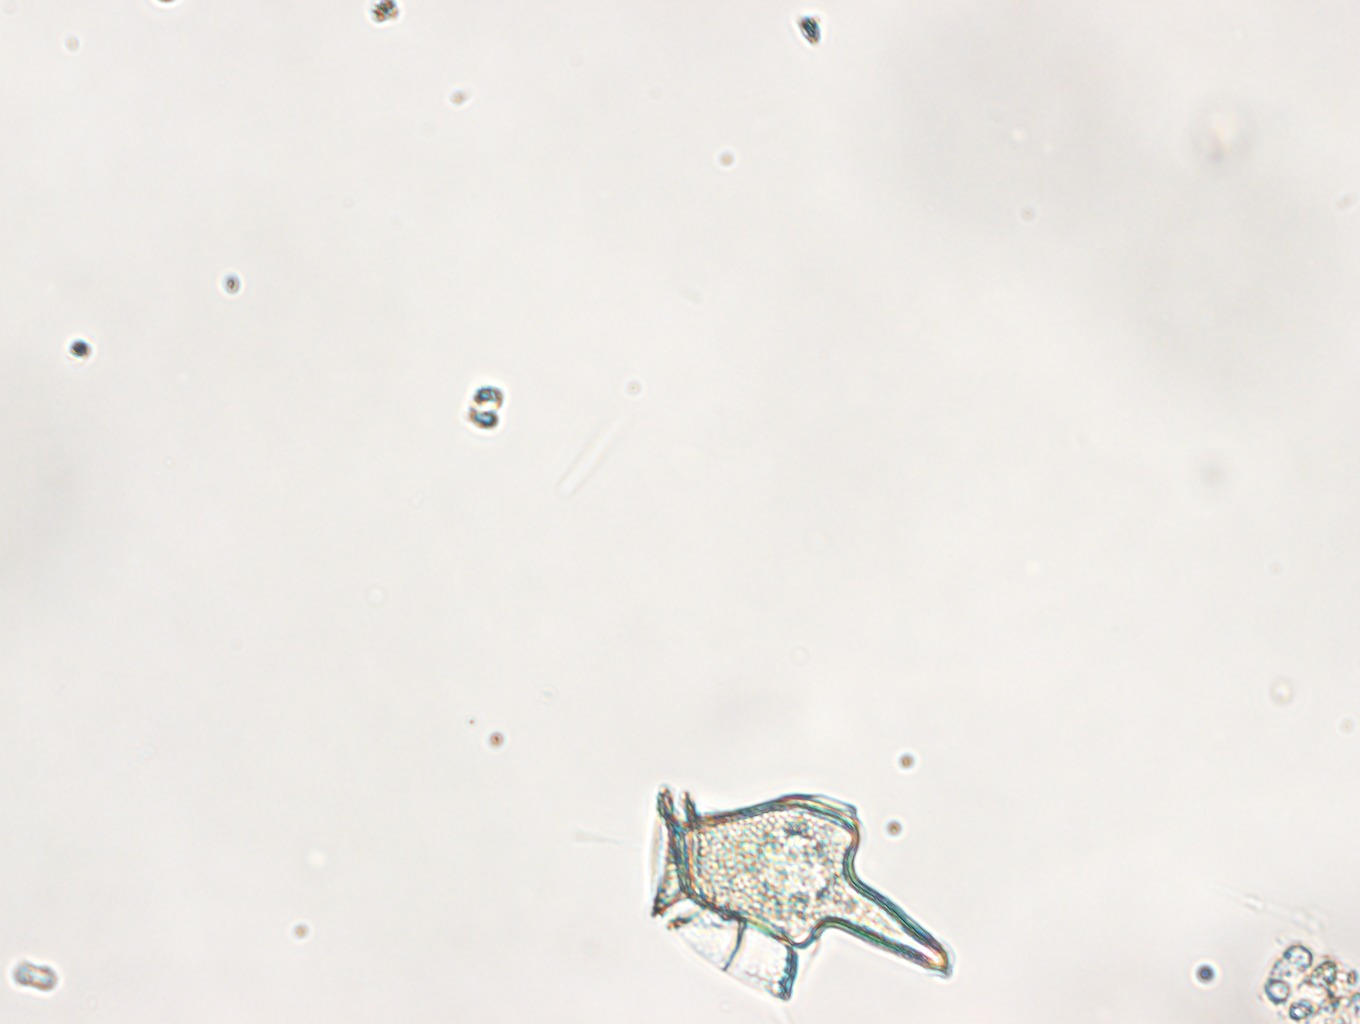dinophysis caudata: (646, 786, 953, 1002)
